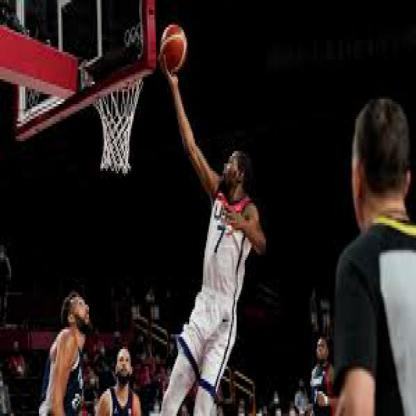basketball: (160, 22, 186, 77)
